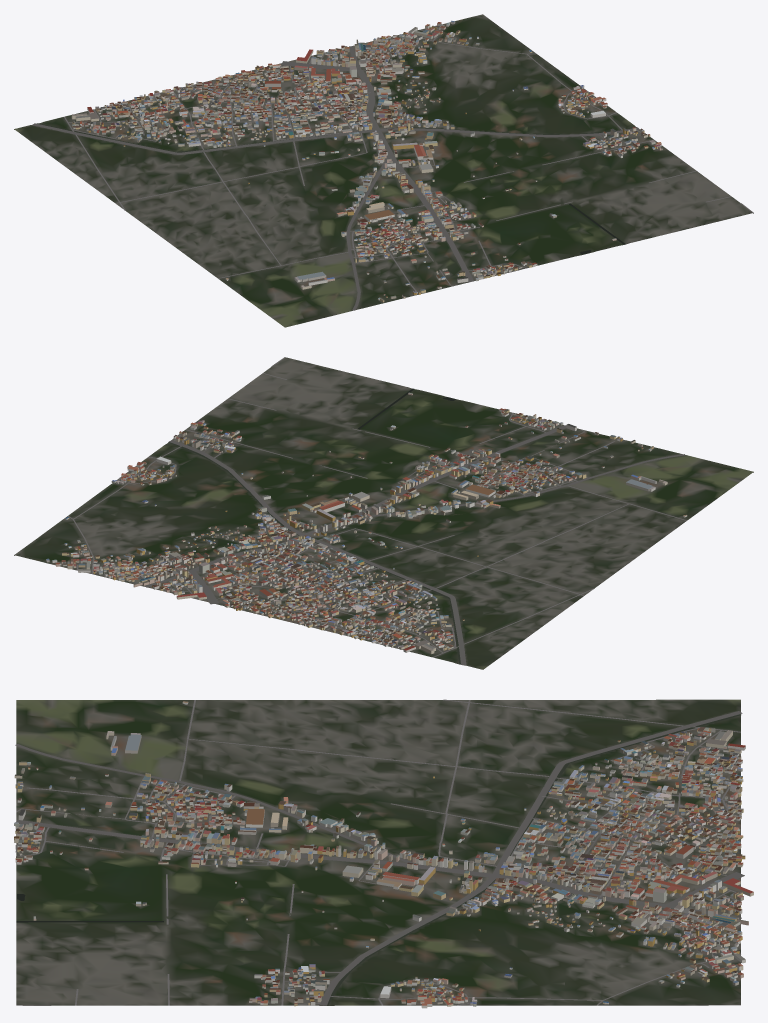
3 views of the same model, one above another, from view 1: azimuth 30°, elevation 25°; view 2: azimuth 150°, elevation 25°; view 3: azimuth 270°, elevation 25° (orthographic). The views are drawn at different scales.
Parts seen in each view (by area): view 1: ground, buildings, roads, water; view 2: ground, buildings, roads, water; view 3: ground, buildings, roads, water.
Part boxes in pixels (bbox=[...]): ground: bbox=[14, 14, 753, 327]; buildings: bbox=[71, 20, 662, 302]; roads: bbox=[32, 29, 753, 310]; water: bbox=[37, 123, 637, 254]; ground: bbox=[14, 357, 753, 669]; buildings: bbox=[46, 392, 687, 653]; roads: bbox=[67, 357, 686, 664]; water: bbox=[168, 388, 460, 664]; ground: bbox=[16, 699, 740, 1005]; buildings: bbox=[14, 701, 753, 1008]; roads: bbox=[15, 699, 744, 1005]; water: bbox=[16, 714, 741, 1005].
Size of the model in its own units: 1415 by 28.01 by 1432.
